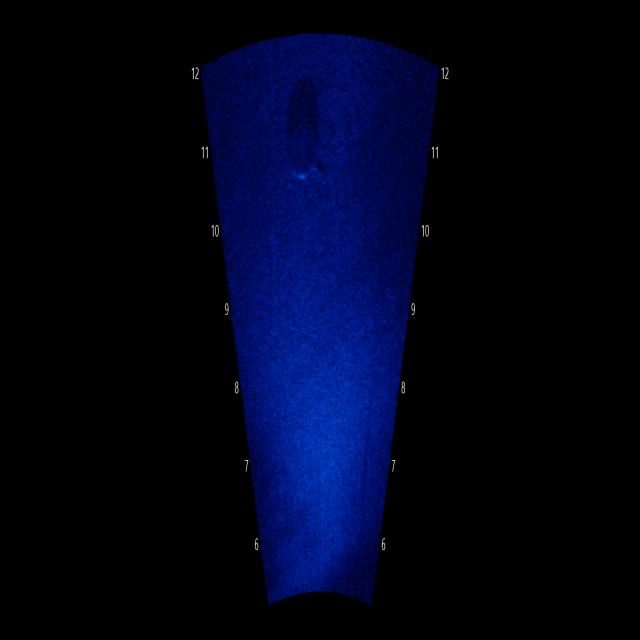circle: (281, 108, 323, 184)
